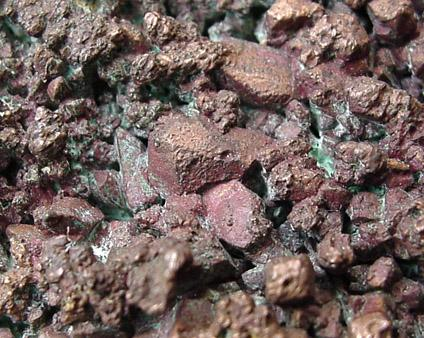copper: (249, 63, 424, 338), (98, 0, 369, 138), (0, 0, 102, 235), (92, 195, 232, 286), (148, 115, 291, 197), (203, 180, 273, 250), (35, 197, 104, 240), (3, 0, 65, 40)
